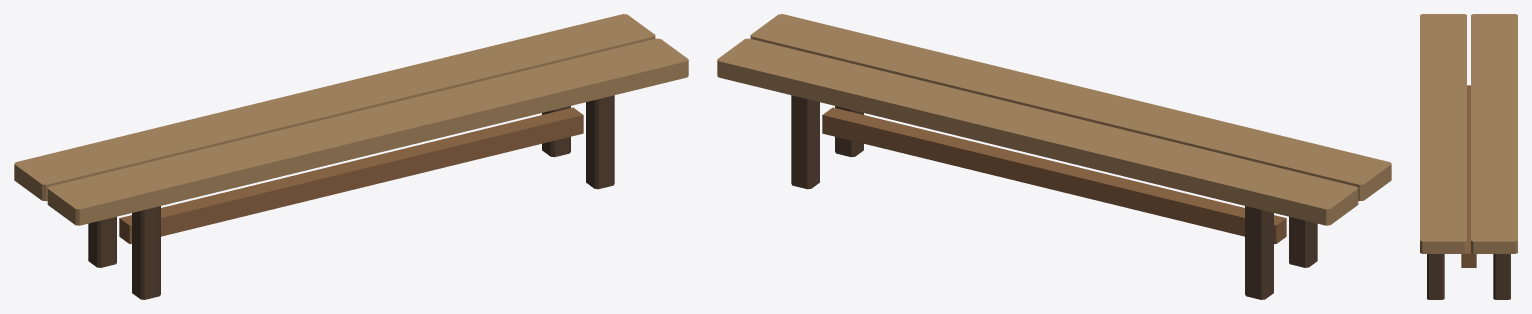
The model's file is bench_diner.glb.
3 views of the same model, side by side, from view 1: azimuth 30°, elevation 25°; view 2: azimuth 150°, elevation 25°; view 3: azimuth 270°, elevation 25° (orthographic). The views are drawn at different scales.
Visible parts, largest first — view 1: geometry; view 2: geometry; view 3: geometry.
Boxes of the visible parts, left/top/right/bottom form: geometry: left=14, top=14, right=688, bottom=299; geometry: left=717, top=14, right=1391, bottom=299; geometry: left=1420, top=14, right=1517, bottom=299.
Size of the model in its own units: 2.75 by 0.475 by 0.5.
